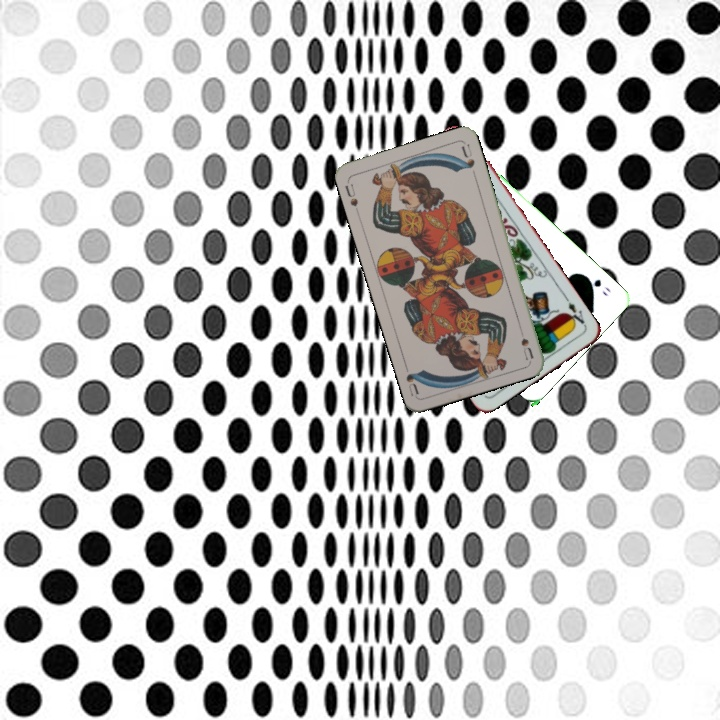EA: (562, 298, 587, 329)
GO: (580, 271, 613, 299)
SU: (341, 180, 361, 209), (517, 334, 536, 362)
